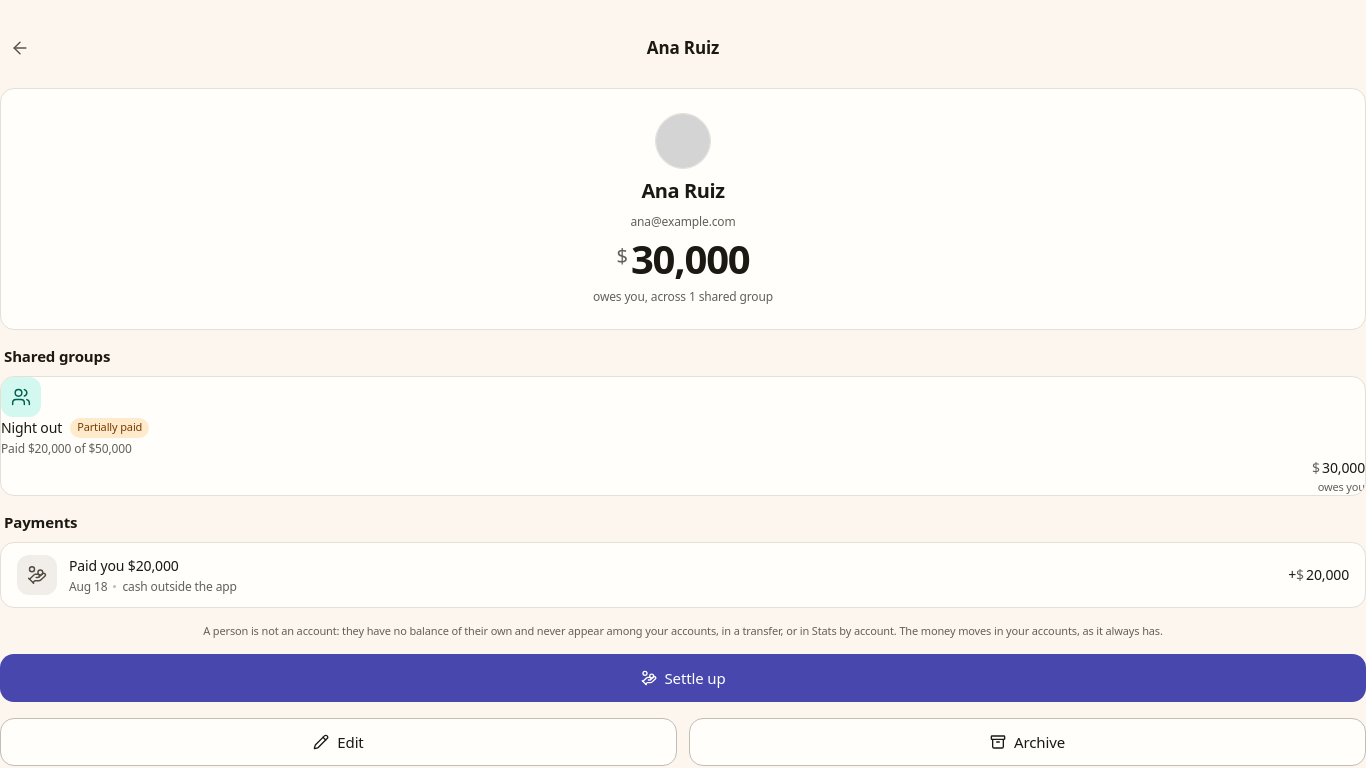
Test: PersonScreen › says a payment made in cash moved no balance, because it wrote no movement
The width and height of the screenshot is (1366, 768).
Click the button "Paid you $20,000 Aug 18 cash outside the app +$20,000" at [37, 575], box x1=1 y1=543 x2=1365 y2=607
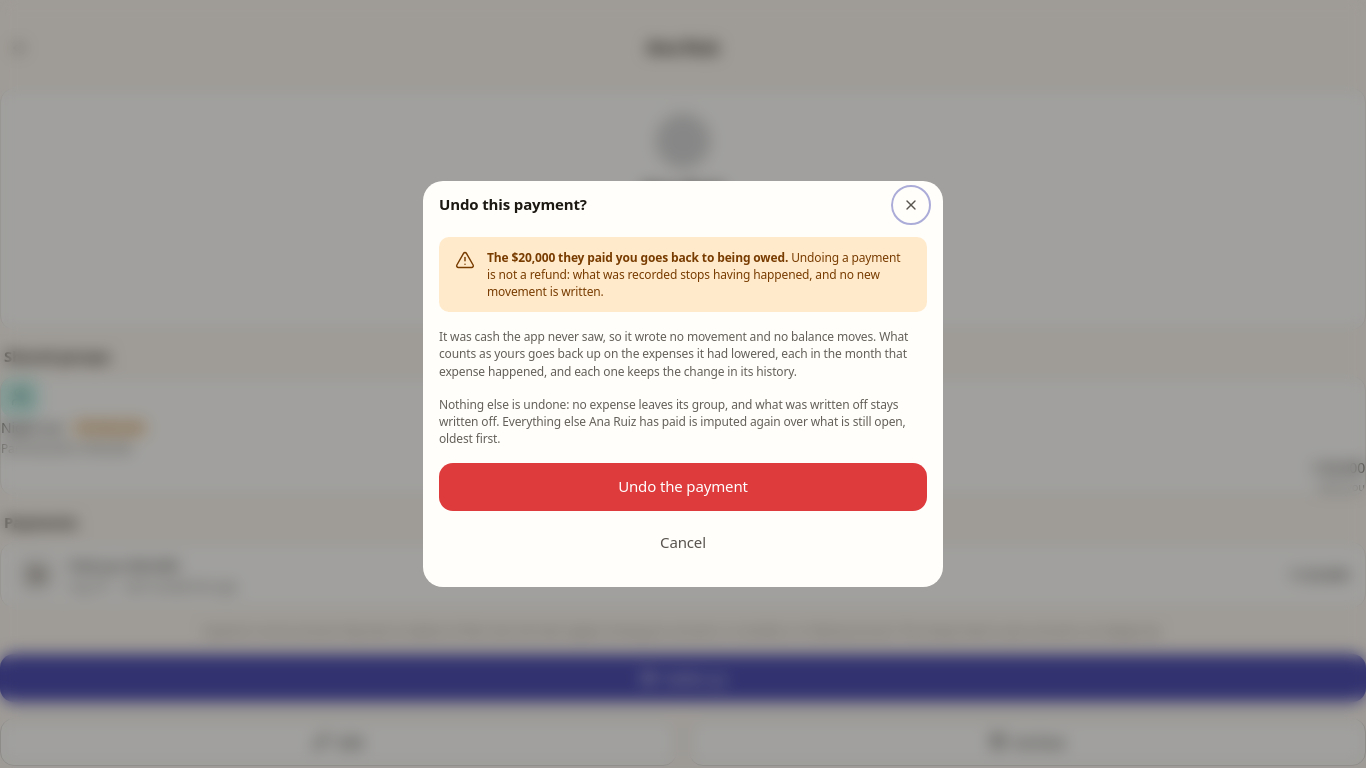
Expected: the dialog "Undo this payment?" does not show "The movement it wrote goes with it", x1=423 y1=181 x2=943 y2=587
Result: the dialog "Undo this payment?" shows "it wrote no movement and no balance moves" at x1=439 y1=328 x2=876 y2=345
